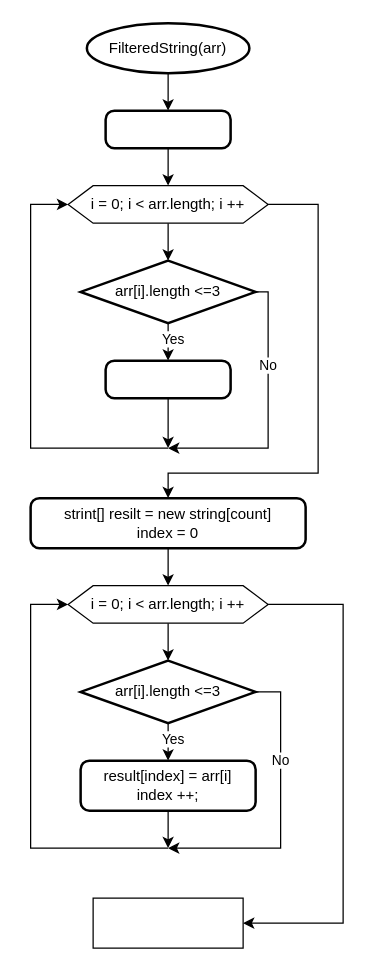
The diagram is 375 pixels wide and 970 high, and some of its shapes have lost their labels. The shapes that lost their labels are listed below. From the top down, each one's box as (x1, y1, x2, y2) in pixels, then its label:
(104, 109, 231, 149): count = 0
(104, 359, 231, 399): count ++
(92, 897, 243, 948): return result
